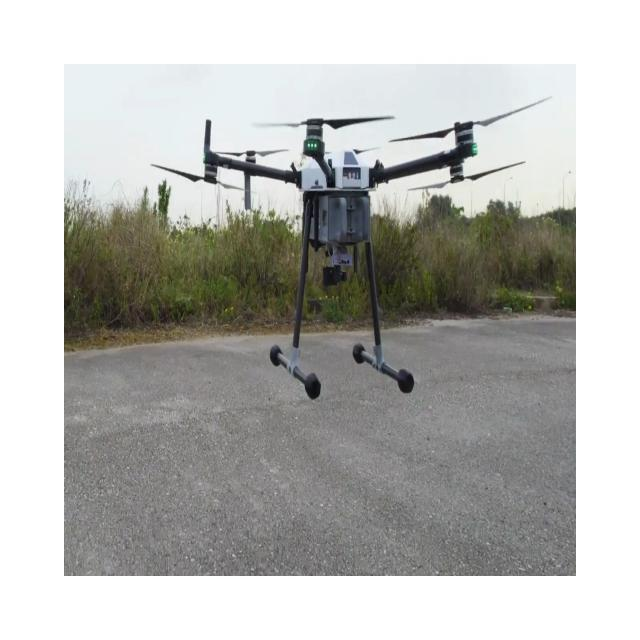drone: (150, 95, 552, 399)
